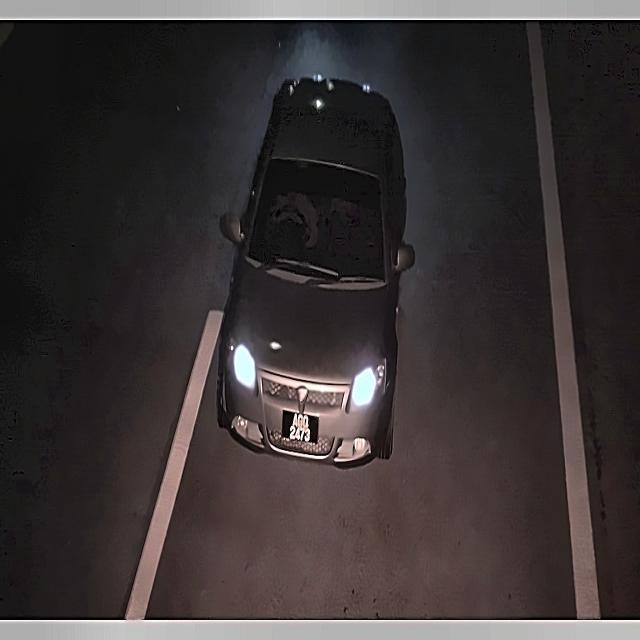car: (276, 403, 324, 448)
